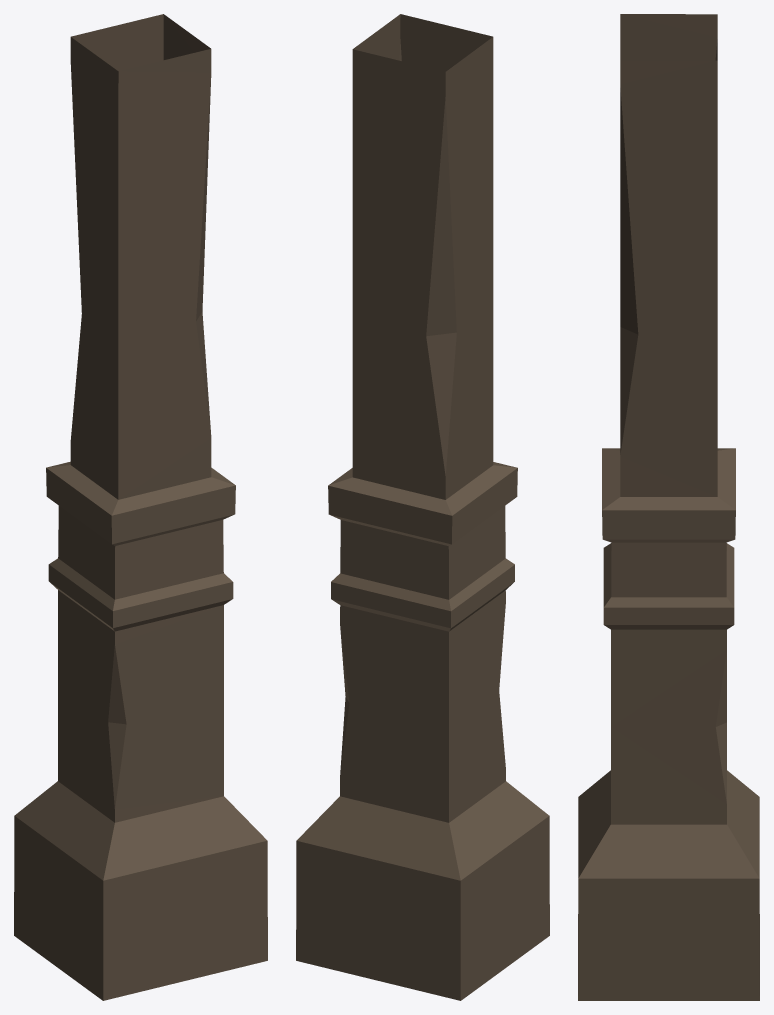
The model's file is SFHW_Reception_Pillar.fbx.
The picture shows the model from 3 angles, left to right: view 1: azimuth 30°, elevation 25°; view 2: azimuth 150°, elevation 25°; view 3: azimuth 270°, elevation 25°; orthographic projection.
Visible parts, largest first — view 1: SFHW_Reception_Pillar; view 2: SFHW_Reception_Pillar; view 3: SFHW_Reception_Pillar.
Boxes of the visible parts, x1=… form: SFHW_Reception_Pillar: x1=14, y1=14, x2=267, y2=1000; SFHW_Reception_Pillar: x1=296, y1=14, x2=549, y2=1000; SFHW_Reception_Pillar: x1=578, y1=14, x2=759, y2=1000.
Size of the model in its own units: 28.12 by 148 by 26.35.
